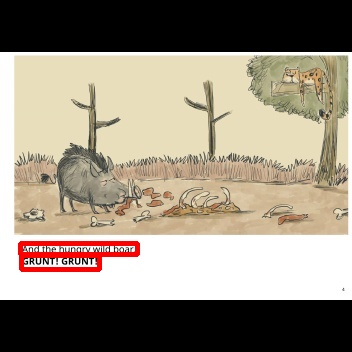latin: (20, 243, 137, 254), (21, 255, 99, 269)
